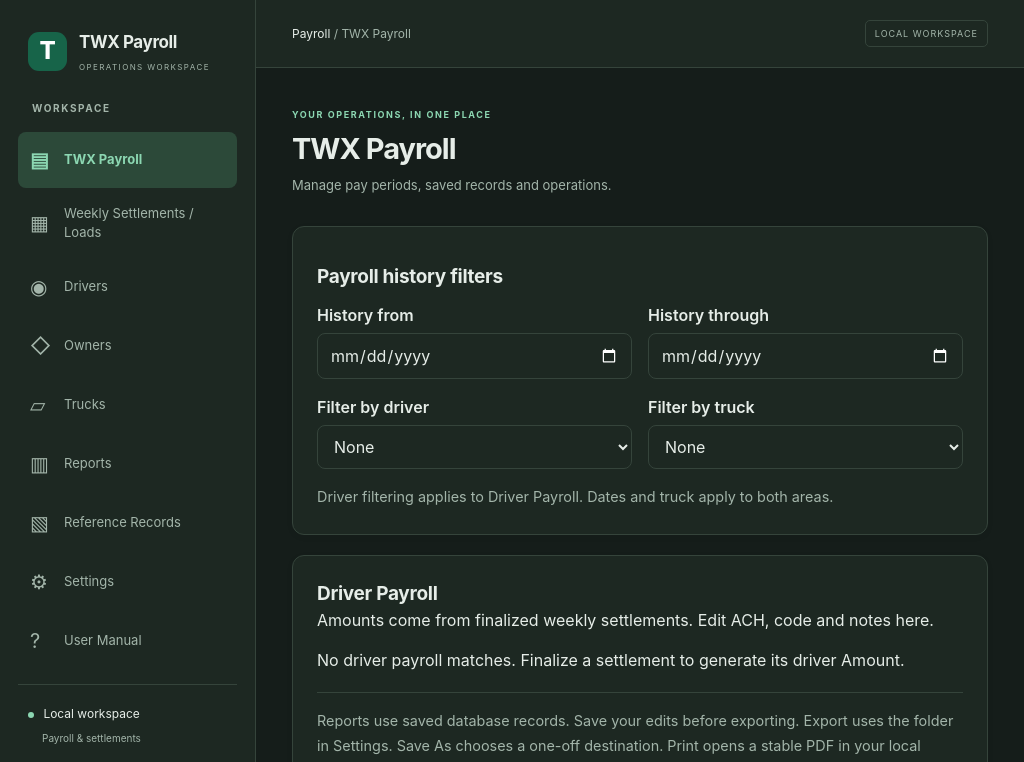
Test: desktop foundation › places reference records below Reports and keeps integrations last in Settings
This screenshot has width=1024, height=762.
Click the button "⚙ Settings": click(128, 582) [18, 554, 237, 610]
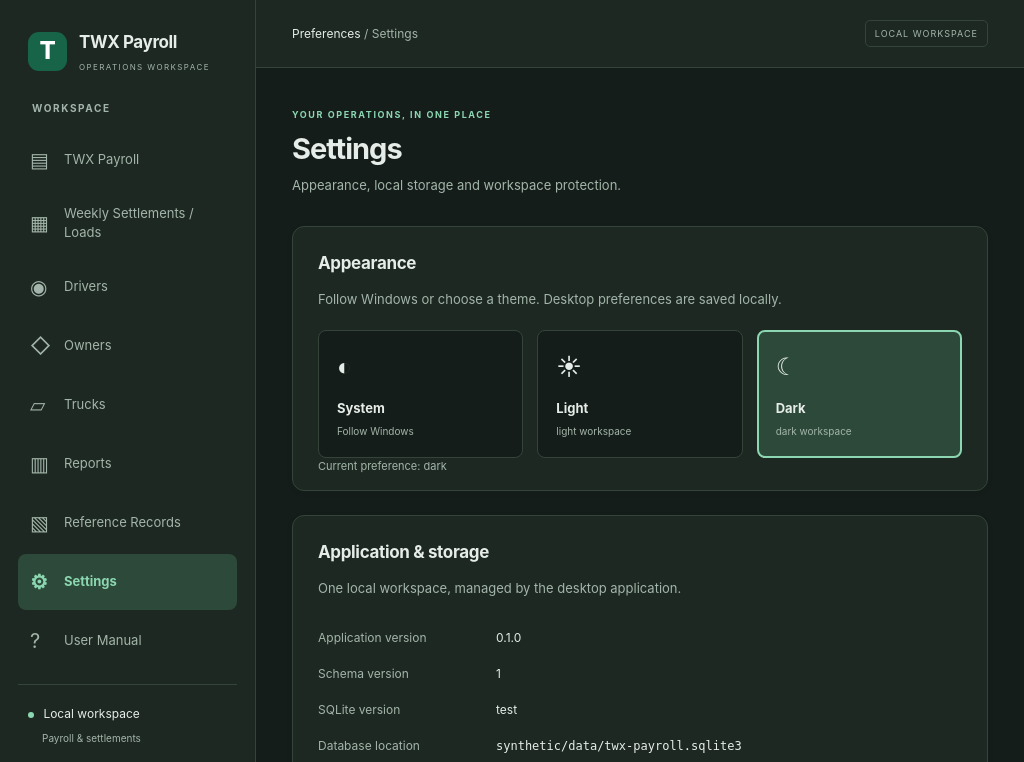
Click the button "▧ Reference Records": click(128, 522) [18, 494, 237, 550]
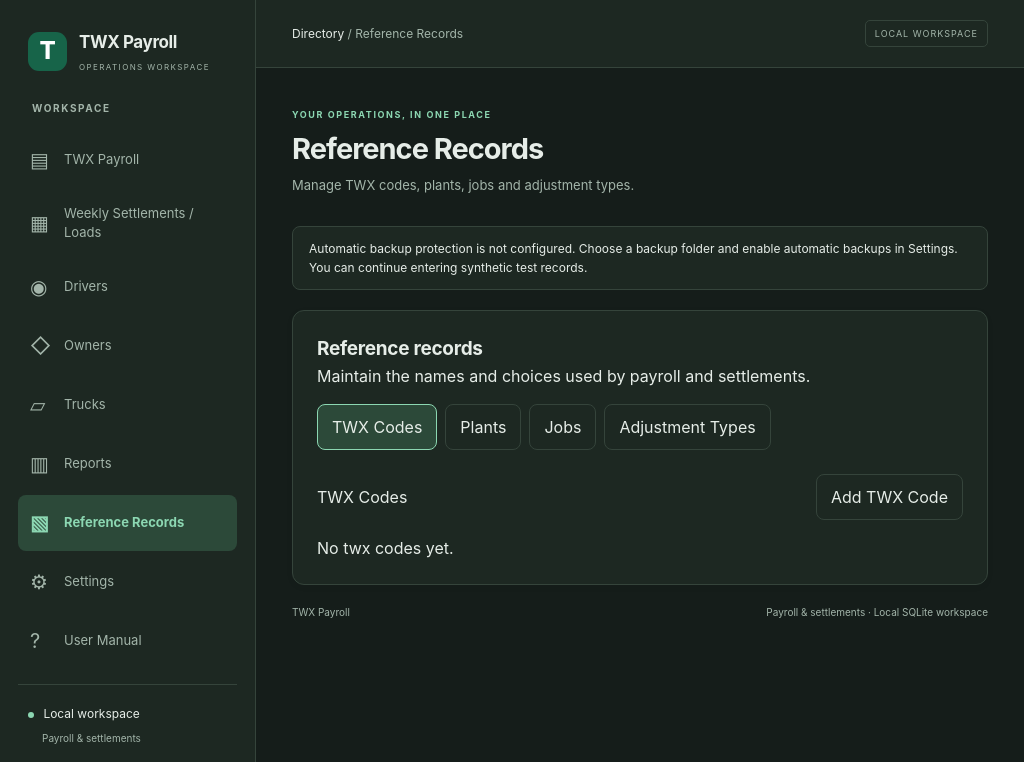
Expected: the heading "Reference records" is shown, [317, 337, 483, 360]
Expected: the button "TWX Codes" is shown, [317, 404, 437, 450]
Expected: the button "Plants" is shown, [445, 404, 522, 450]
